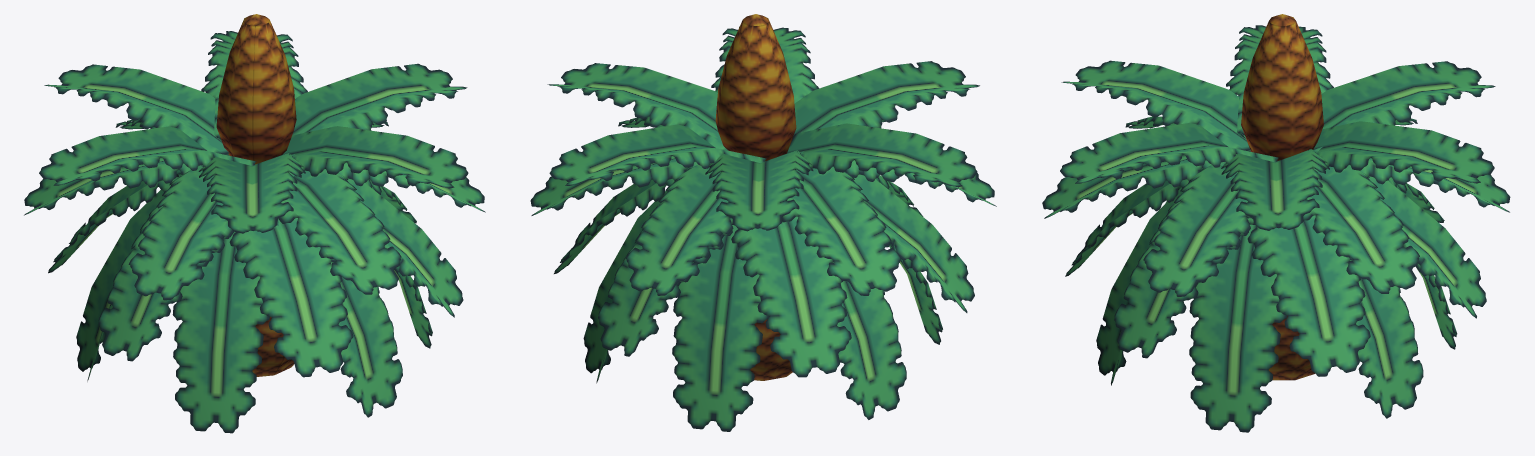
The model's file is Prop_Palmera2.fbx.
3 views of the same model, side by side, from view 1: azimuth 30°, elevation 25°; view 2: azimuth 150°, elevation 25°; view 3: azimuth 270°, elevation 25° (orthographic).
Visible parts, largest first — view 1: Cylinder.029; view 2: Cylinder.029; view 3: Cylinder.029.
Boxes of the visible parts, bbox=[...] form: Cylinder.029: bbox=[24, 14, 485, 433]; Cylinder.029: bbox=[530, 14, 996, 431]; Cylinder.029: bbox=[1042, 14, 1510, 432].
Bounding box in the file's own units: 3.38 × 2.71 × 3.34.
